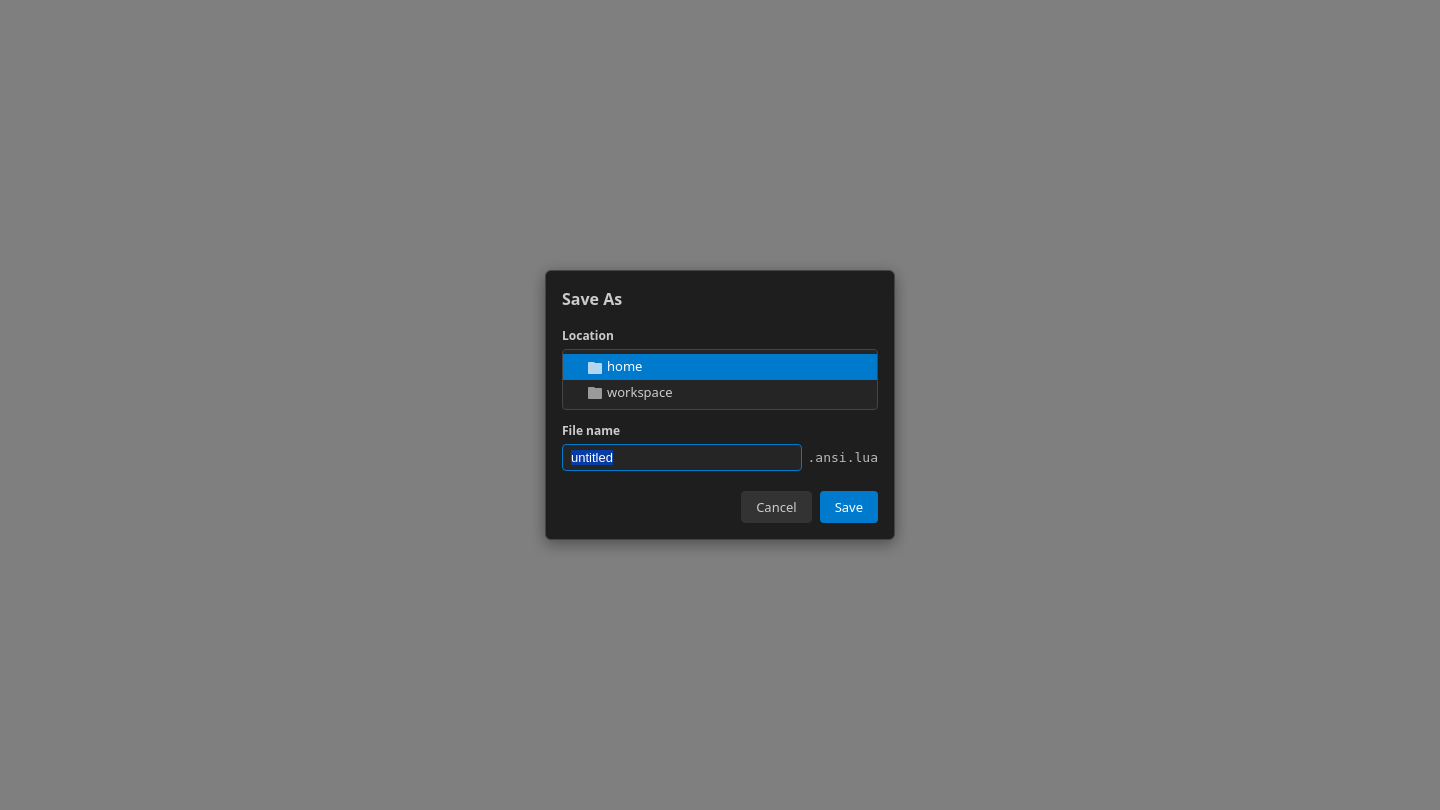
it: SaveAsDialog › should show error when filename is empty
The width and height of the screenshot is (1440, 810).
Clear the field with test id "save-as-filename" at (682, 458), box x1=562 y1=444 x2=802 y2=471
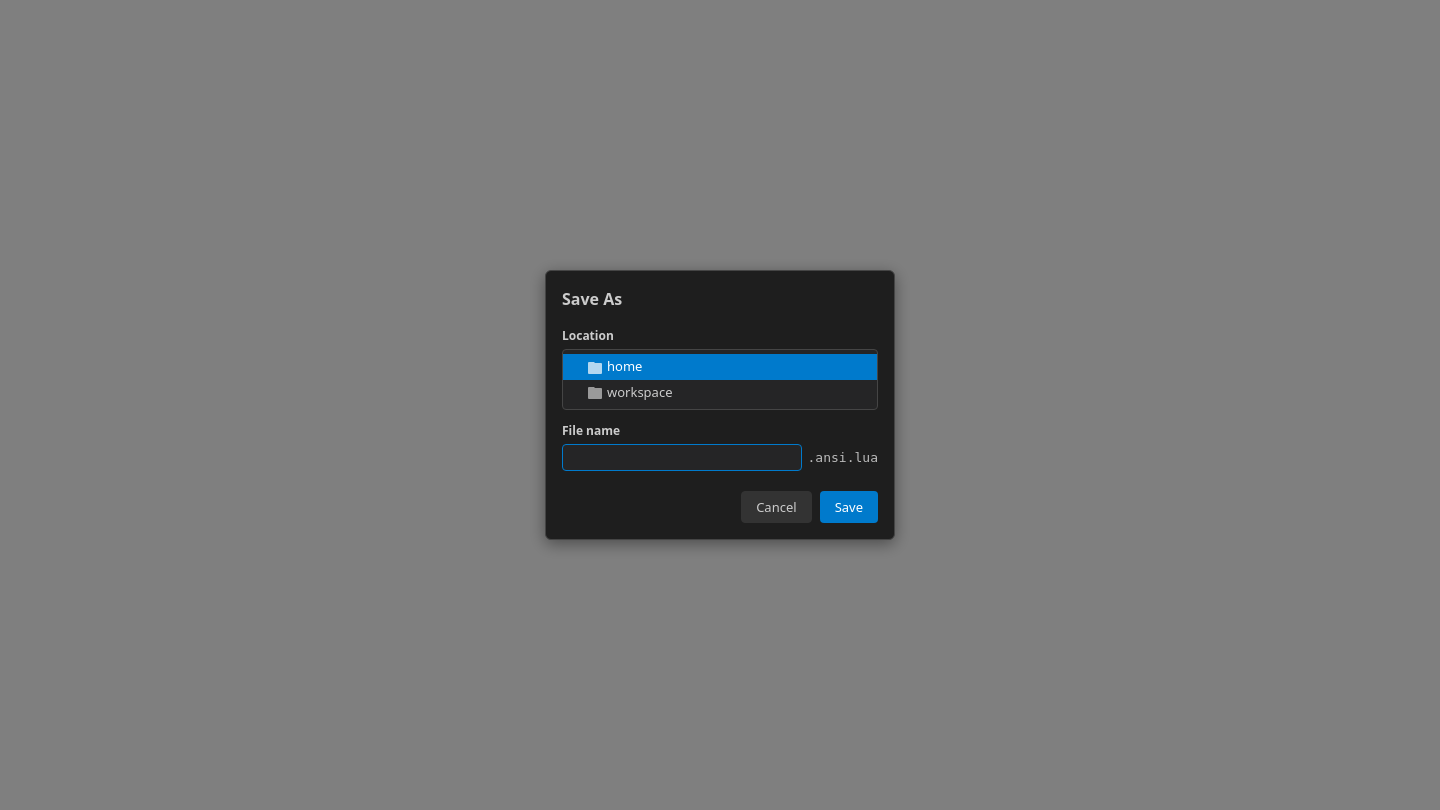
Click the button with test id "save-as-save" at (849, 507), box x1=820 y1=491 x2=878 y2=523
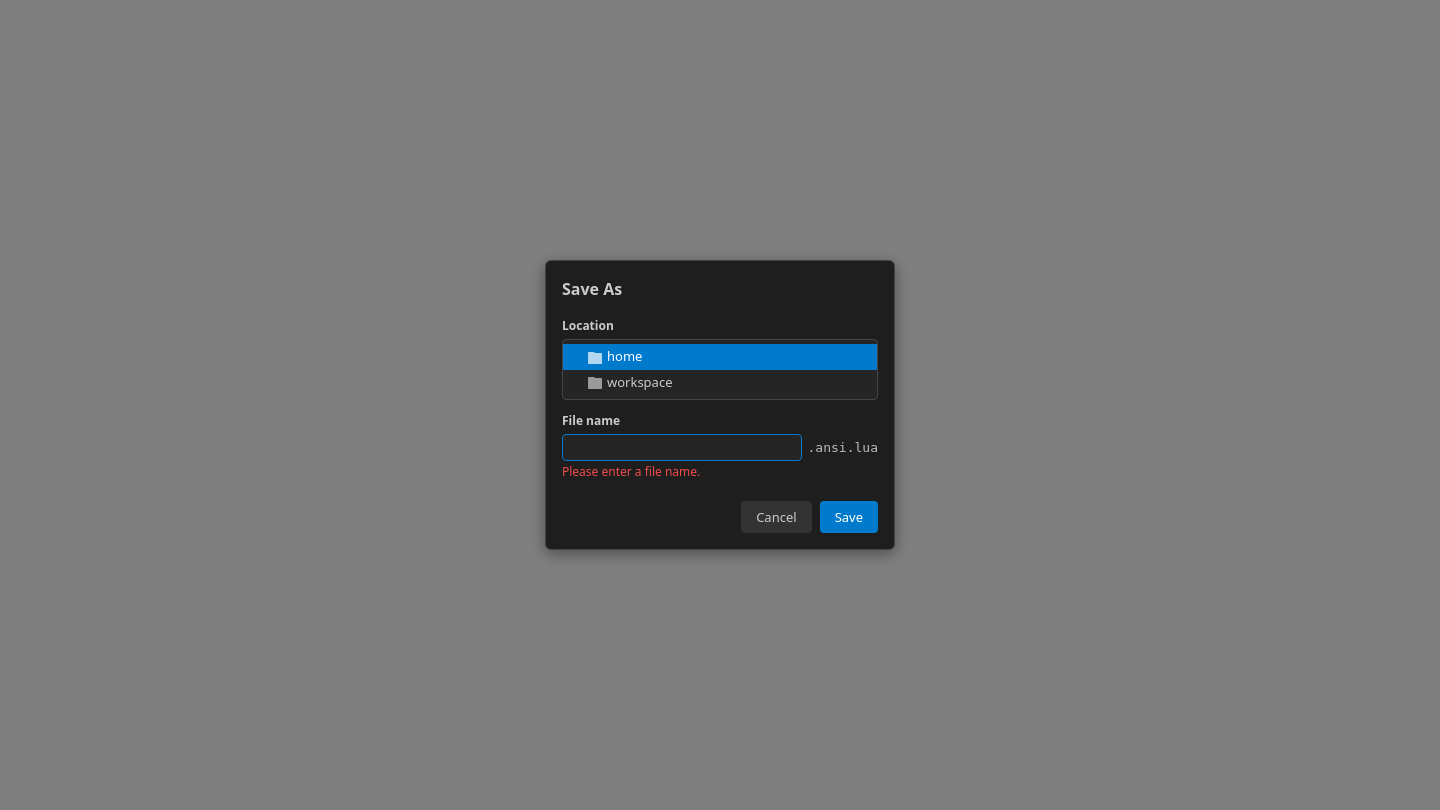
Check: the text with test id "save-as-error" reads "Please enter a file name.", box x1=562 y1=463 x2=700 y2=480
